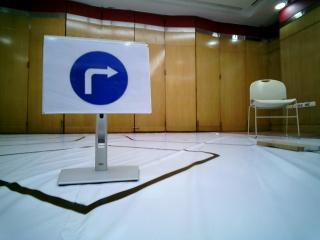right: (43, 34, 154, 117)
